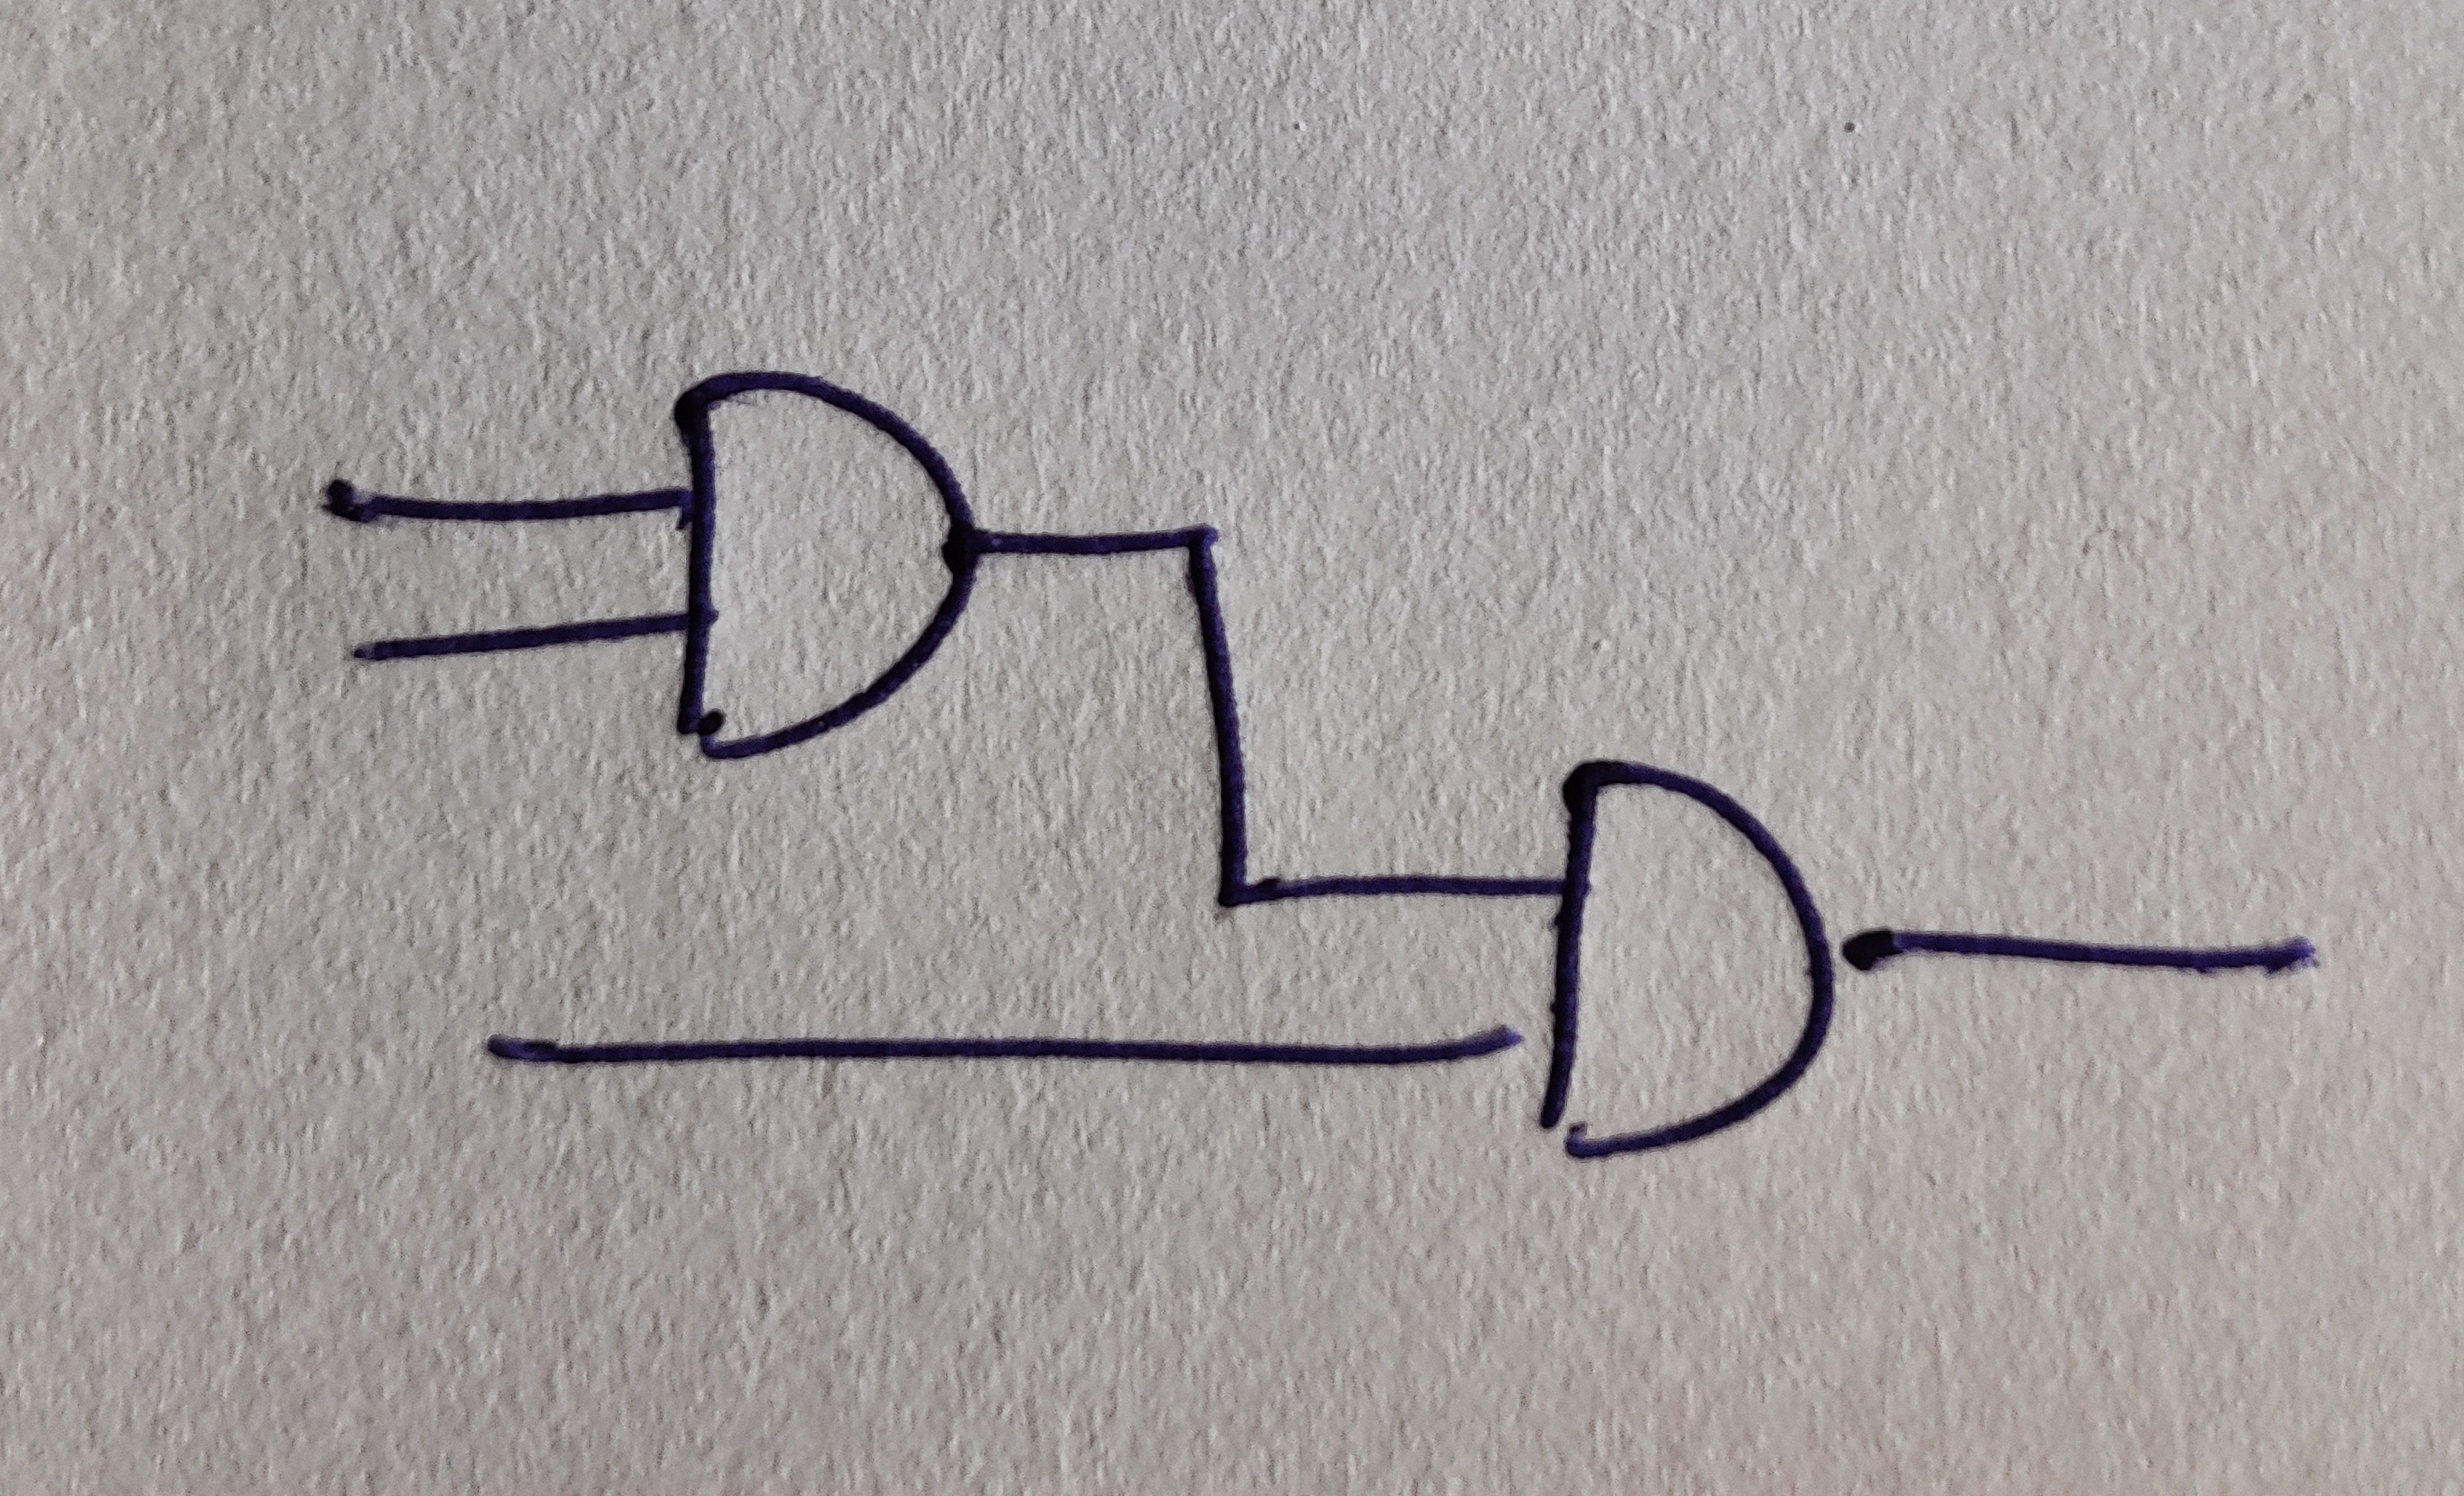and: (676, 371, 975, 760), (1542, 762, 1832, 1162)
